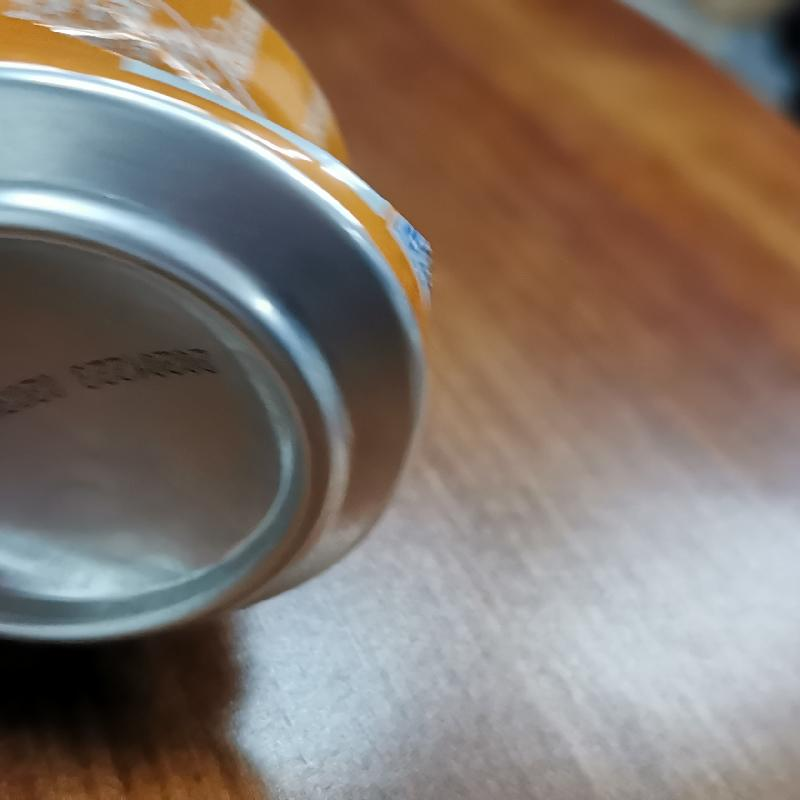cans: (2, 5, 433, 658)
